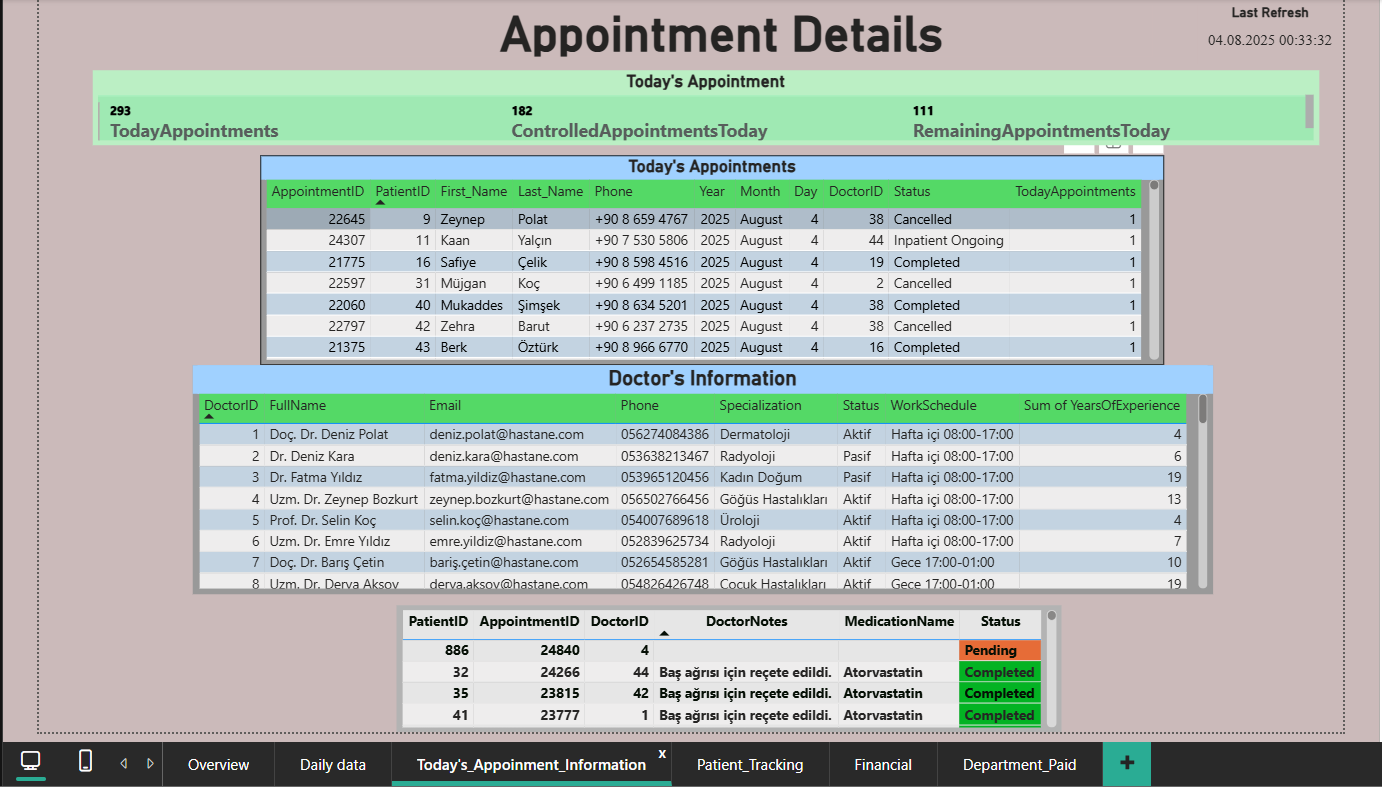

What the dashboard file says about the page in this screenshot:
{"tool":"powerbi","page":{"name":"Today's_Appoinment_Information","canvas":[1280,720],"ordinal":2},"visuals":[{"type":"tableEx","title":"Today''s Appointments","fields":{"Values":["Appointments.AppointmentID","Appointments.PatientID","Patients.First_Name","Patients.Last_Name","Patients.Phone","Appointments.AppointmentDate.Variation.Date Hierarchy.Year","Appointments.AppointmentDate.Variation.Date Hierarchy.Month","Appointments.AppointmentDate.Variation.Date Hierarchy.Day","Doctors.DoctorID","Appointments.Status","Appointments.TodayAppointments"]},"box":[217.2,153.4,887.1,206.1],"z":0},{"type":"tableEx","title":"Doctor''s Information","fields":{"Values":["Doctors.DoctorID","Doctors.FullName","Doctors.Email","Doctors.Phone","Doctors.Specialization","Doctors.Status","Doctors.WorkSchedule","Sum(Doctors.YearsOfExperience)"]},"box":[150.9,359.5,1001.2,224.5],"z":1000},{"type":"multiRowCard","title":"Today''s Appointment","fields":{"Values":["Appointments.TodayAppointments","Appointments.ControlledAppointmentsToday","Appointments.RemainingAppointmentsToday"]},"box":[52.8,69.9,1203.7,73.6],"z":2000},{"type":"textbox","title":"Appointment Details","box":[246.6,6.1,846.6,50.3],"z":3000},{"type":"tableEx","fields":{"Values":["PatientDetails.PatientID","PatientDetails.AppointmentID","PatientDetails.DoctorID","PatientDetails.DoctorNotes","PatientDetails.MedicationName","PatientDetails.Status"]},"box":[350.9,595.1,652.8,125.2],"z":4000},{"type":"card","title":"Last Refresh","fields":{"Values":["AppointmentSchedule.LastRefresh"]},"box":[1137.4,6.1,142.3,57.7],"z":5000}]}

Visuals, with their boxes on the page's 1280x720 design canvas (x1, y1, x2, y2). These are canvas units, not pixel positions in the 1382x787 screenshot, which may show the page scaled, cropped or inside an application window:
"Today''s Appointments" tableEx: {"left": 217, "top": 153, "right": 1104, "bottom": 360}
"Doctor''s Information" tableEx: {"left": 151, "top": 360, "right": 1152, "bottom": 584}
"Today''s Appointment" multiRowCard: {"left": 53, "top": 70, "right": 1256, "bottom": 144}
"Appointment Details" textbox: {"left": 247, "top": 6, "right": 1093, "bottom": 56}
tableEx - PatientDetails.PatientID x PatientDetails.AppointmentID: {"left": 351, "top": 595, "right": 1004, "bottom": 720}
"Last Refresh" card: {"left": 1137, "top": 6, "right": 1280, "bottom": 64}
